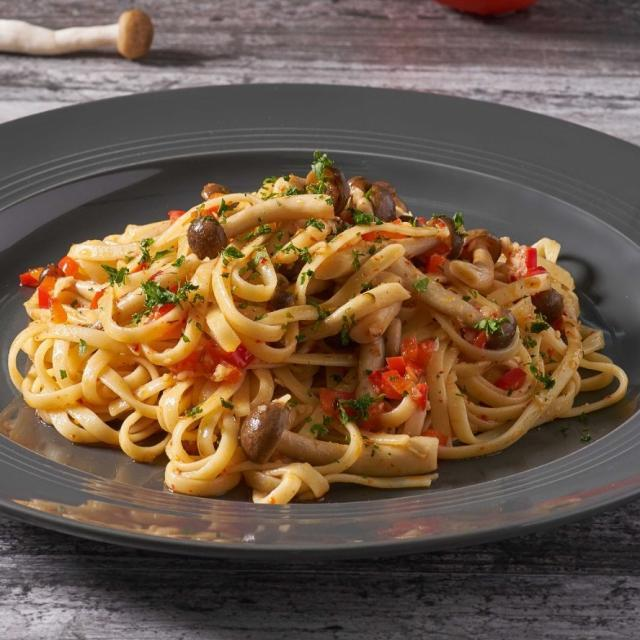Oil pasta: (28, 149, 640, 521)
